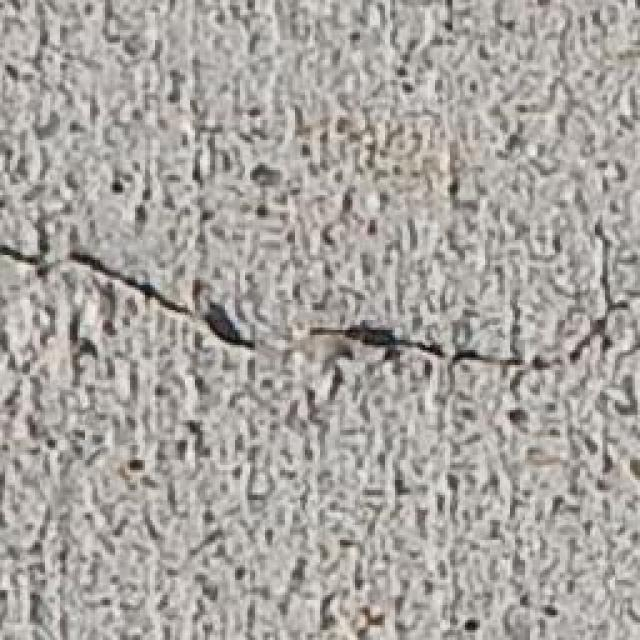concrete-crack: (2, 205, 634, 411)
